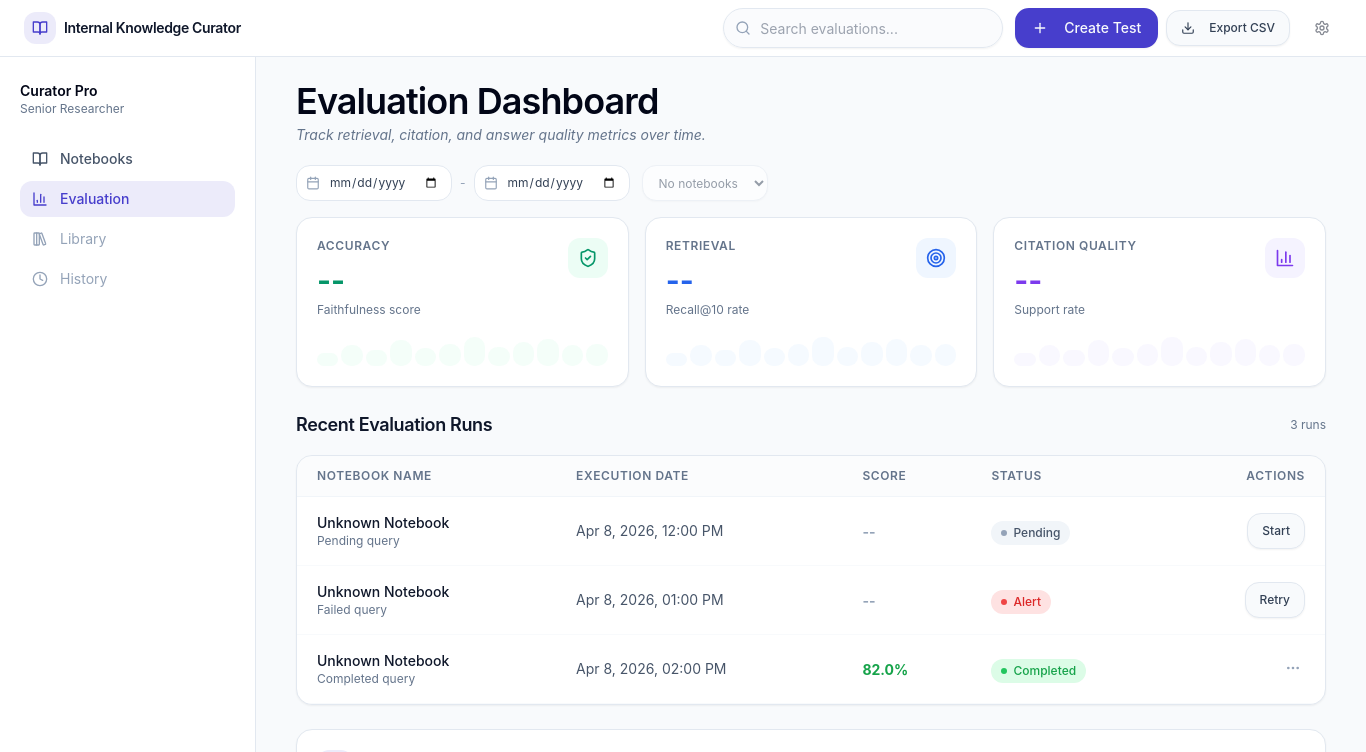
Scenario: EvaluationDashboard › shows a notebook empty state when no notebooks are available
Expected: the dropdown named "Notebook filter" is disabled, [642, 165, 768, 201]
# There are two "Create Test" buttons (desktop top bar + mobile), pick the first
Step 1. Click the button "Create Test" → (1087,28), box [1015, 8, 1158, 48]
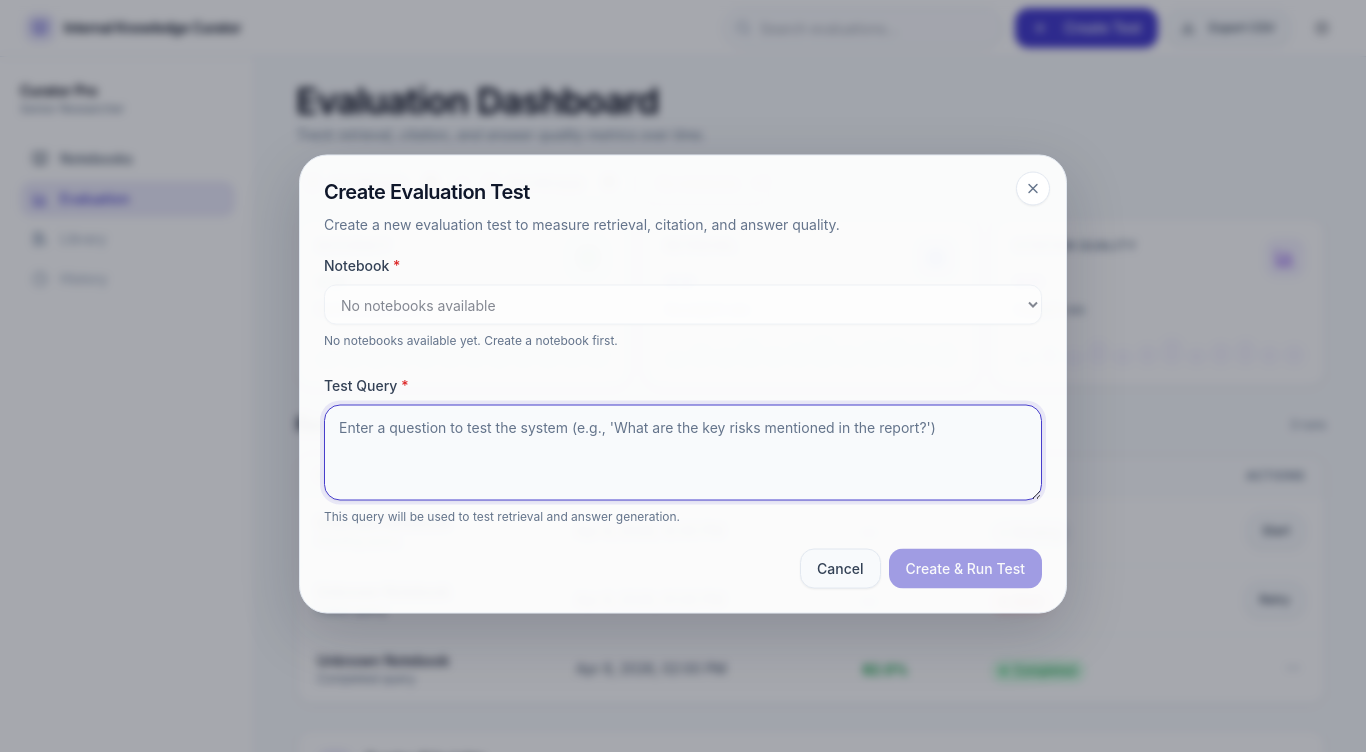
Now the text "No notebooks available yet. Create a notebook first." is shown, box [324, 332, 618, 348]
Now the dropdown labelled "Notebook" is disabled, box [324, 284, 1042, 324]
